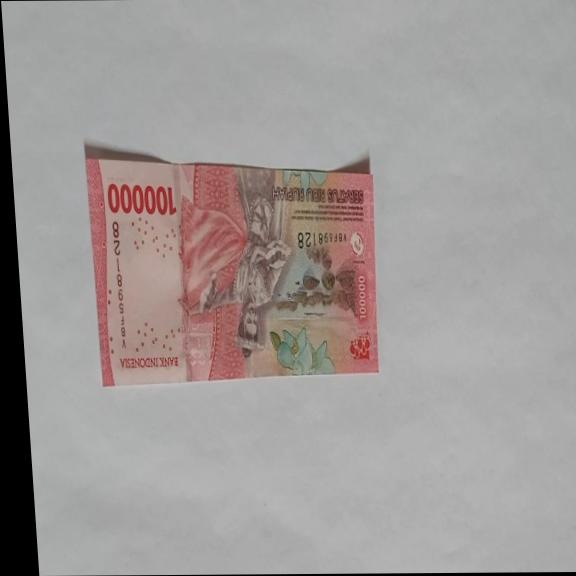Kertas: (84, 147, 386, 387), (105, 181, 178, 218)
